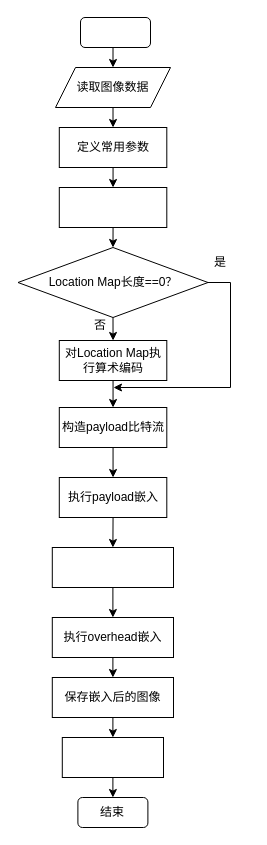
Image size: 267x845. Some labels were removed from this diagram. Each missing label, with the centre of its shape:
开始: point 115,32
构造overhead比特流: point 112,567
生成Location Map: point 112,207
计算PSNR值: point 112,757
